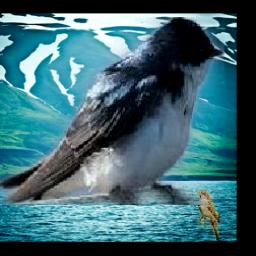Sparrow: (197, 191, 219, 242)
Swallow: (0, 18, 225, 206)
